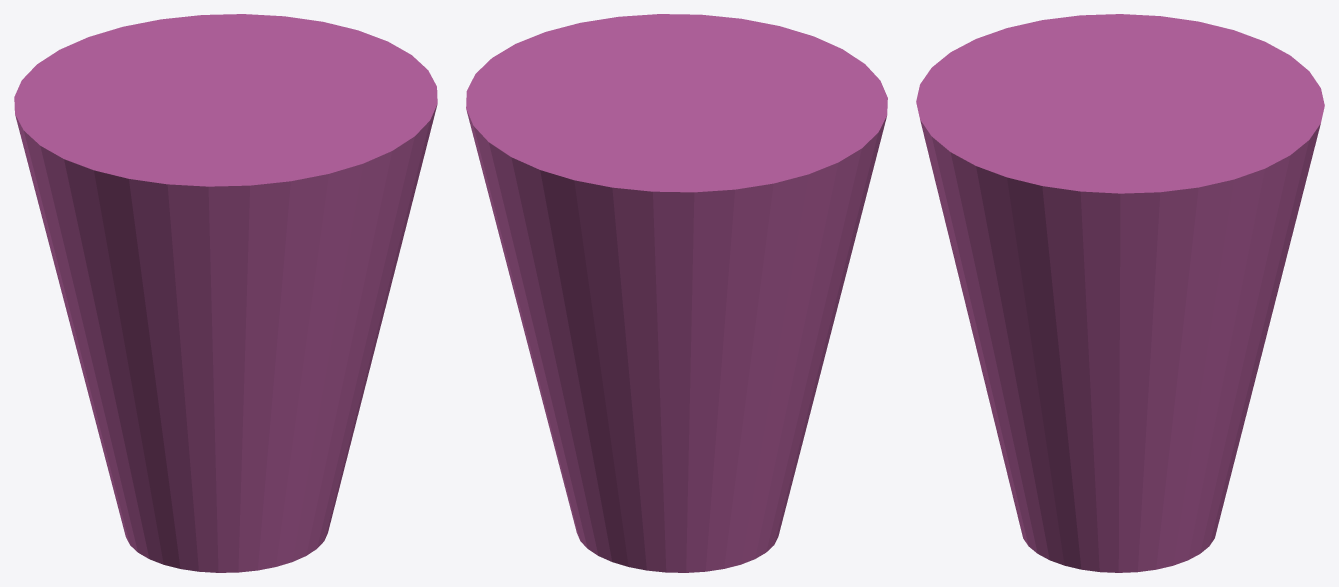
File: Cup.obj
3 views of the same model, side by side, from view 1: azimuth 30°, elevation 25°; view 2: azimuth 150°, elevation 25°; view 3: azimuth 270°, elevation 25° (orthographic).
Parts seen in each view (by area): view 1: Cone.001; view 2: Cone.001; view 3: Cone.001.
Part boxes in pixels (left/top/right/bottom): Cone.001: left=14, top=14, right=437, bottom=572; Cone.001: left=466, top=14, right=887, bottom=572; Cone.001: left=916, top=14, right=1324, bottom=572.
Bounding box in the file's own units: 0.4118 × 0.4577 × 0.396.
Materials: 1 (1 with a texture image).
